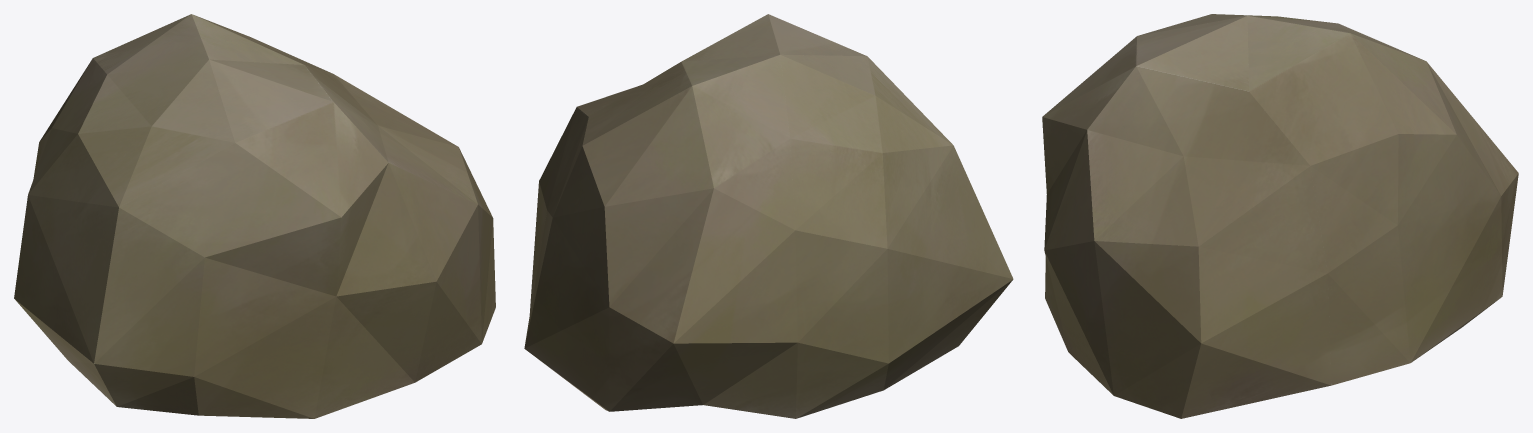
The model's file is Rock_2.obj.
3 renders of one model, left to right at view 1: azimuth 30°, elevation 25°; view 2: azimuth 150°, elevation 25°; view 3: azimuth 270°, elevation 25°, orthographic. The views are drawn at different scales.
Visible parts, largest first — view 1: Rock_2.001; view 2: Rock_2.001; view 3: Rock_2.001.
Part boxes in pixels (x1,y1,x2,y2): Rock_2.001: (14,14,495,418); Rock_2.001: (524,14,1013,418); Rock_2.001: (1042,14,1518,418).
Bounding box in the file's own units: 10.53 × 6.65 × 10.18.
Materials: 1 (1 with a texture image).
